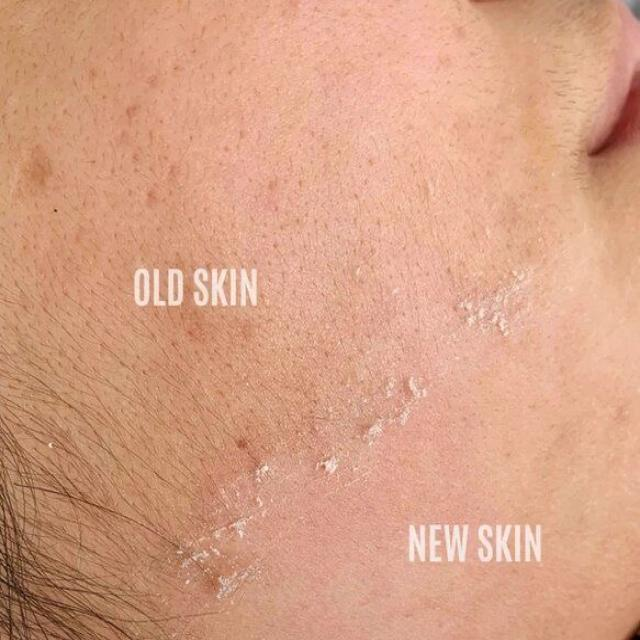Dry-Skin: (129, 106, 356, 269), (453, 53, 554, 339), (148, 365, 246, 594), (372, 292, 469, 428), (227, 399, 303, 549)
